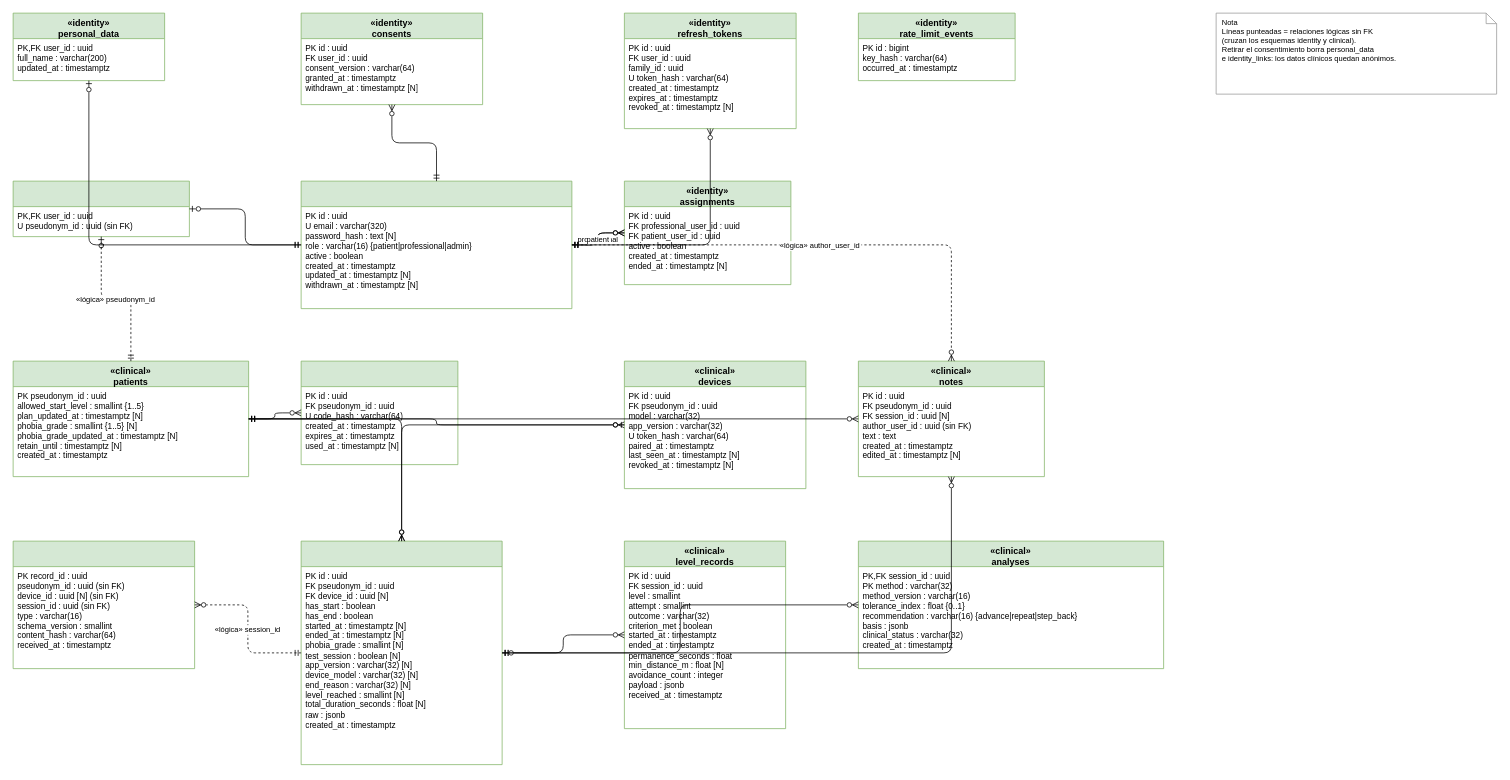
The diagram is 1510 pixels wide and 780 high, and some of its shapes have lost their labels. Here are the shapes that lost their labels. From the top down, the box of each, then its label:
(12, 180, 189, 237): «identity» identity_links
(300, 180, 572, 309): «identity» users
(300, 360, 458, 465): «clinical» pairing_codes
(12, 540, 195, 669): «clinical» inbound_records
(300, 540, 502, 765): «clinical» sessions
